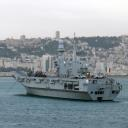Portanaves: (10, 31, 124, 103)
